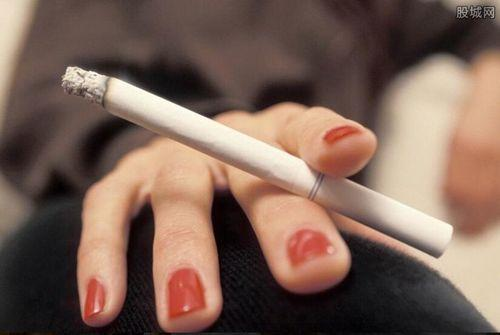smoke: (61, 66, 454, 258)
